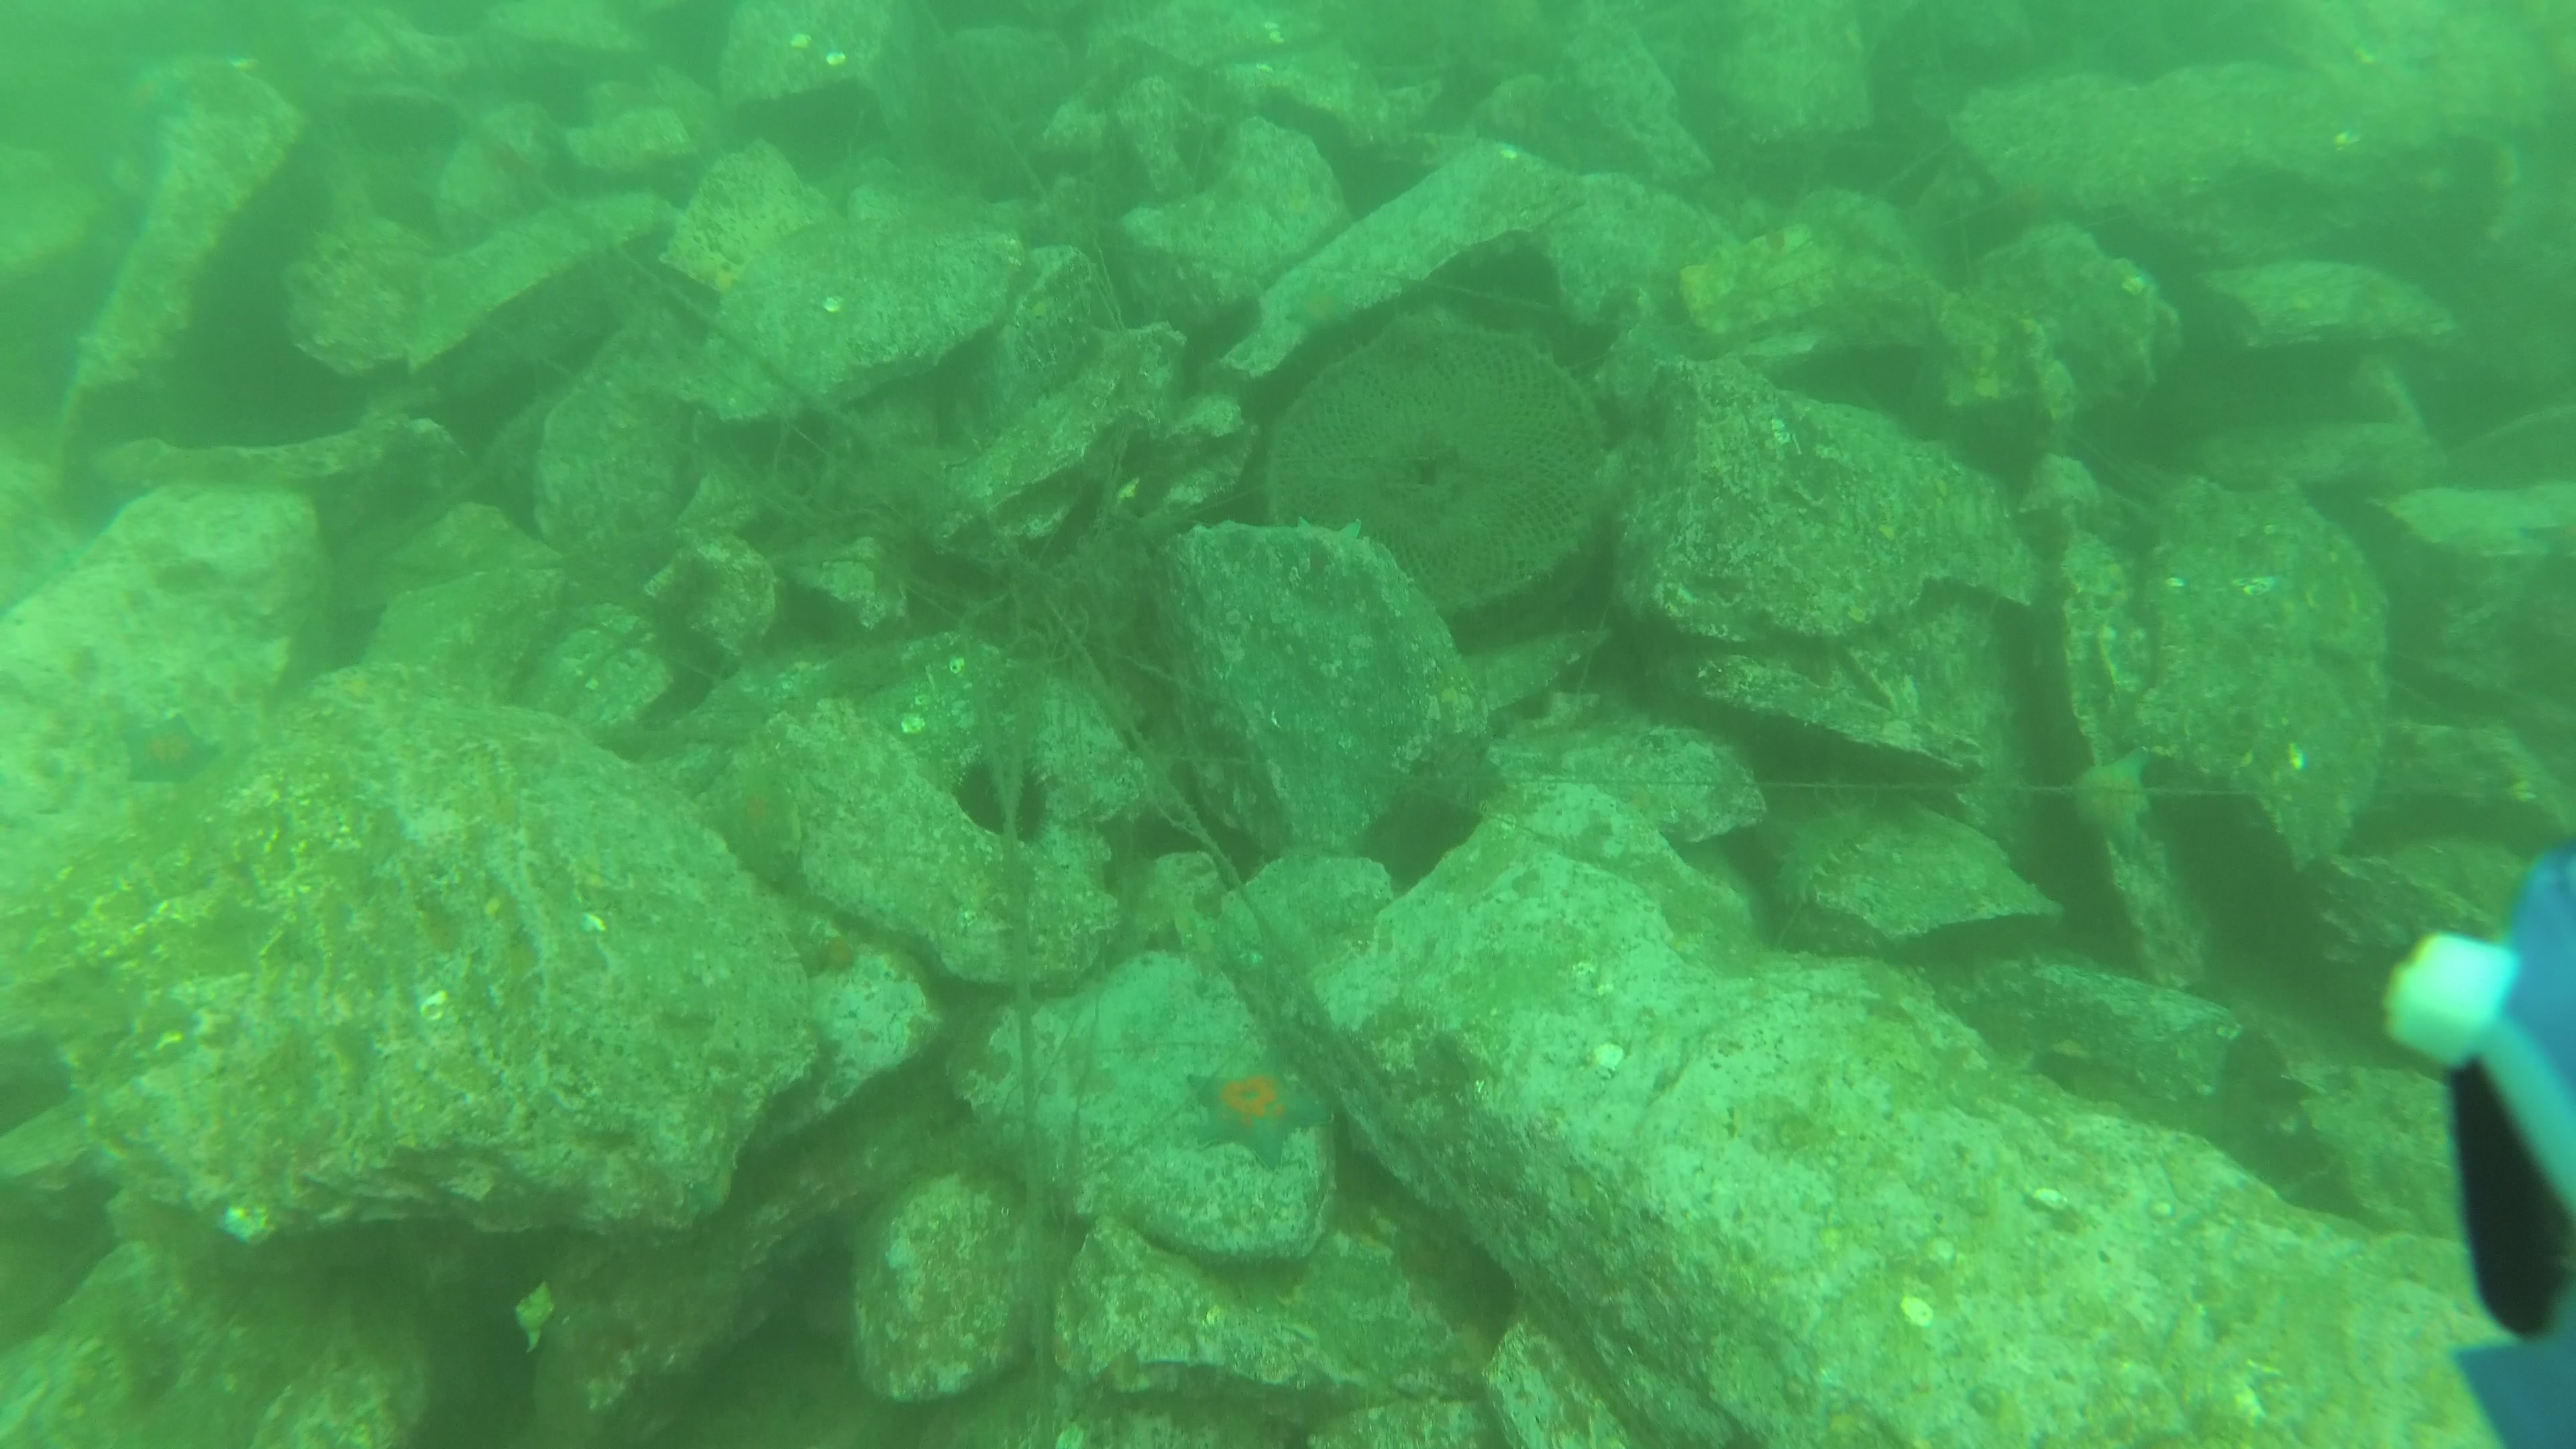starfish: (1180, 1056, 1336, 1173), (2061, 734, 2164, 872), (701, 773, 809, 890), (115, 708, 226, 791), (115, 60, 195, 133)
